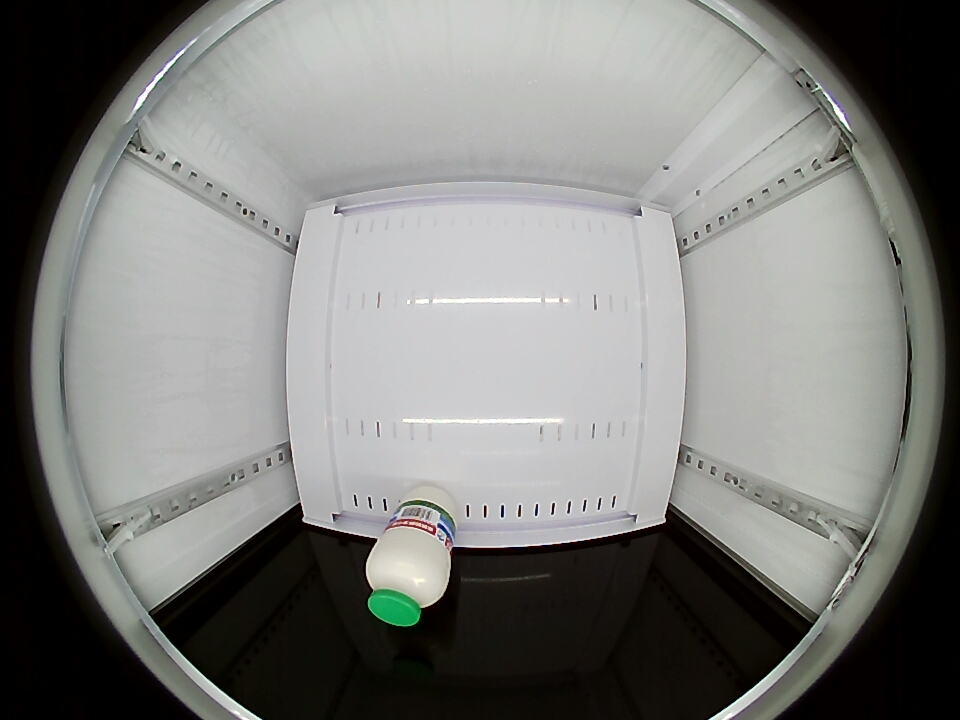liziyuan: (365, 523, 453, 628)
